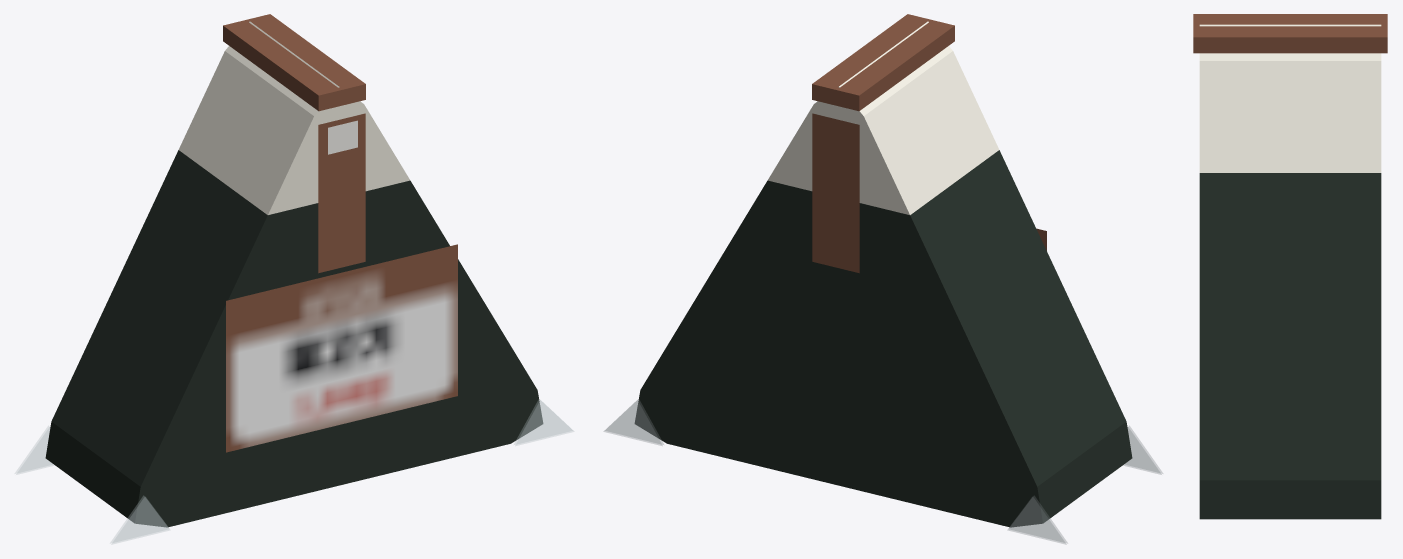
File: SC_Prod_Kimbap_Triangle_Bulgogi.gltf
3 renders of one model, left to right at view 1: azimuth 30°, elevation 25°; view 2: azimuth 150°, elevation 25°; view 3: azimuth 270°, elevation 25°, orthographic.
Visible parts, largest first — view 1: SC_Prod_Kimbap_Triangle_Bulgogi; view 2: SC_Prod_Kimbap_Triangle_Bulgogi; view 3: SC_Prod_Kimbap_Triangle_Bulgogi.
Part boxes in pixels (x1,y1,x2,y2): SC_Prod_Kimbap_Triangle_Bulgogi: (15, 14, 574, 544); SC_Prod_Kimbap_Triangle_Bulgogi: (603, 14, 1162, 544); SC_Prod_Kimbap_Triangle_Bulgogi: (1193, 14, 1387, 519).
Size of the model in its own units: 0.108 by 0.0887 by 0.039.
3 materials, 3 textured.
